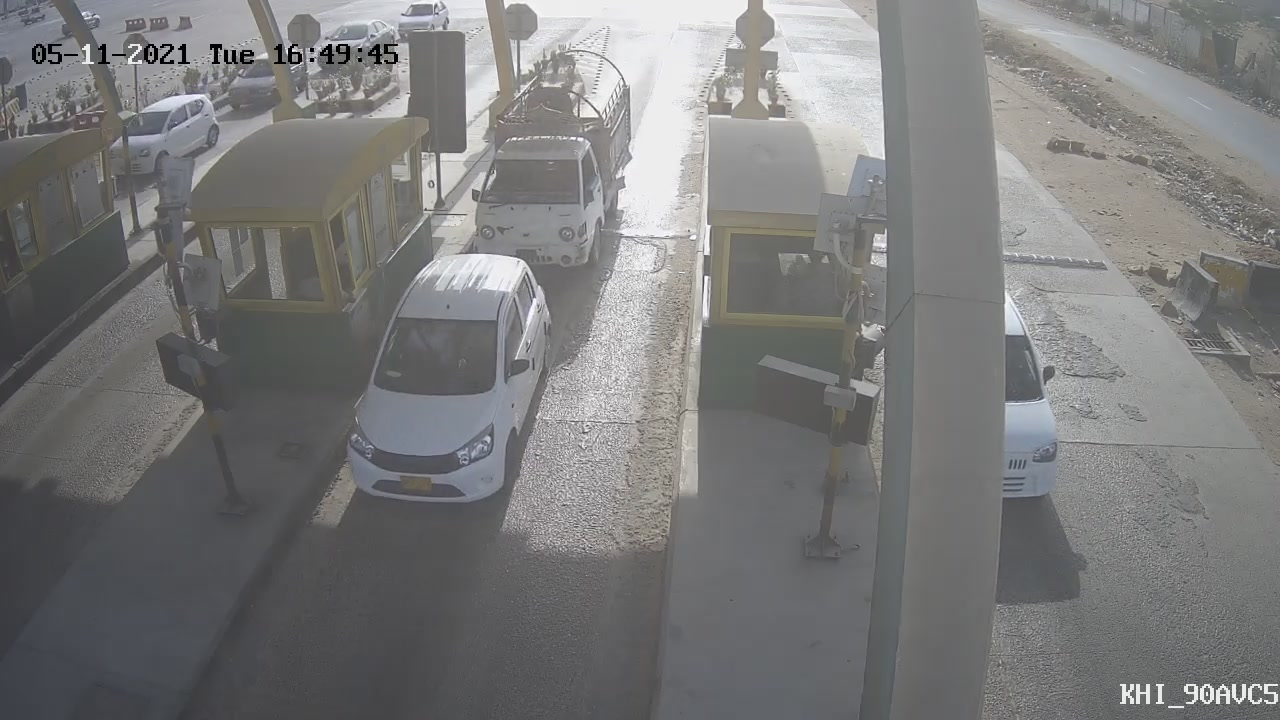F1: (327, 239, 574, 529)
F2: (470, 53, 651, 277)
